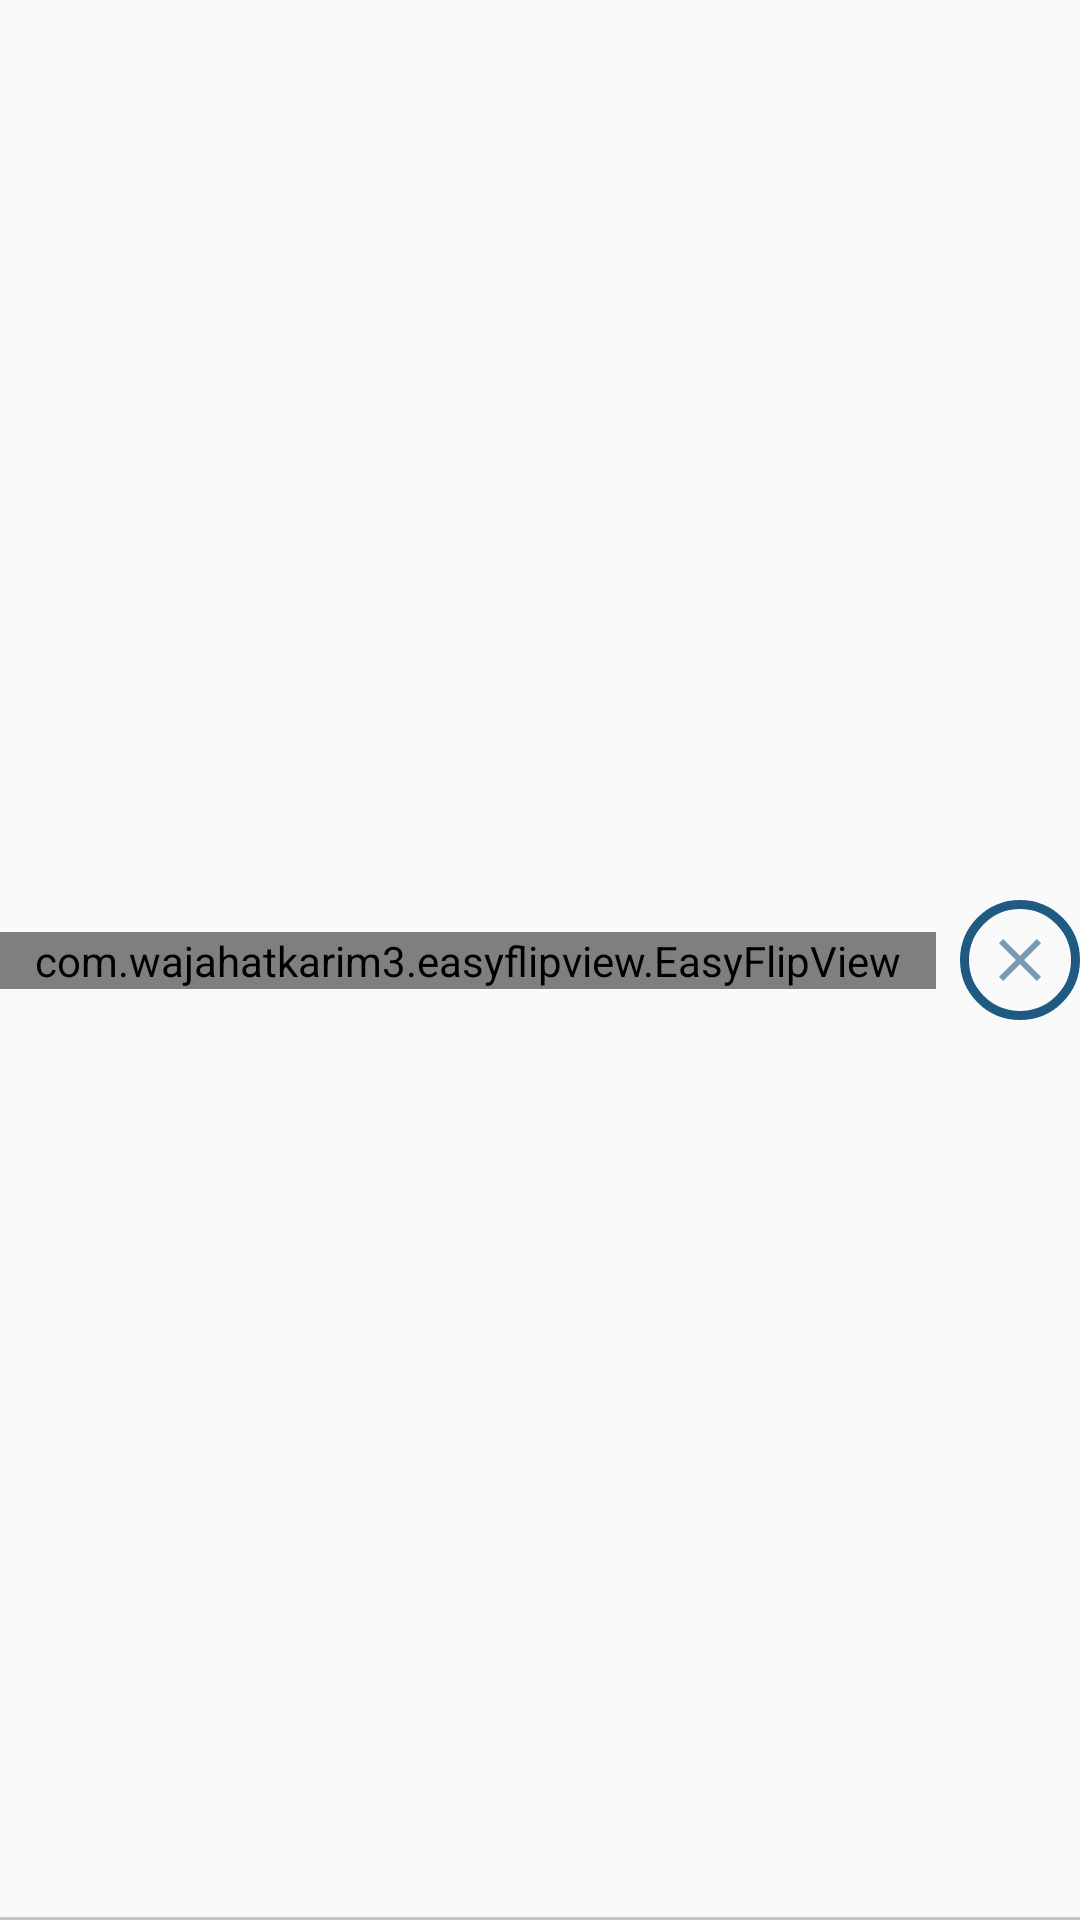

Icons on this 1080px×1920px Android screen, each with the point to tap as [x,y]:
close: [1020,960]
